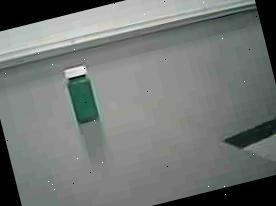Bottle C: (56, 58, 110, 132)
